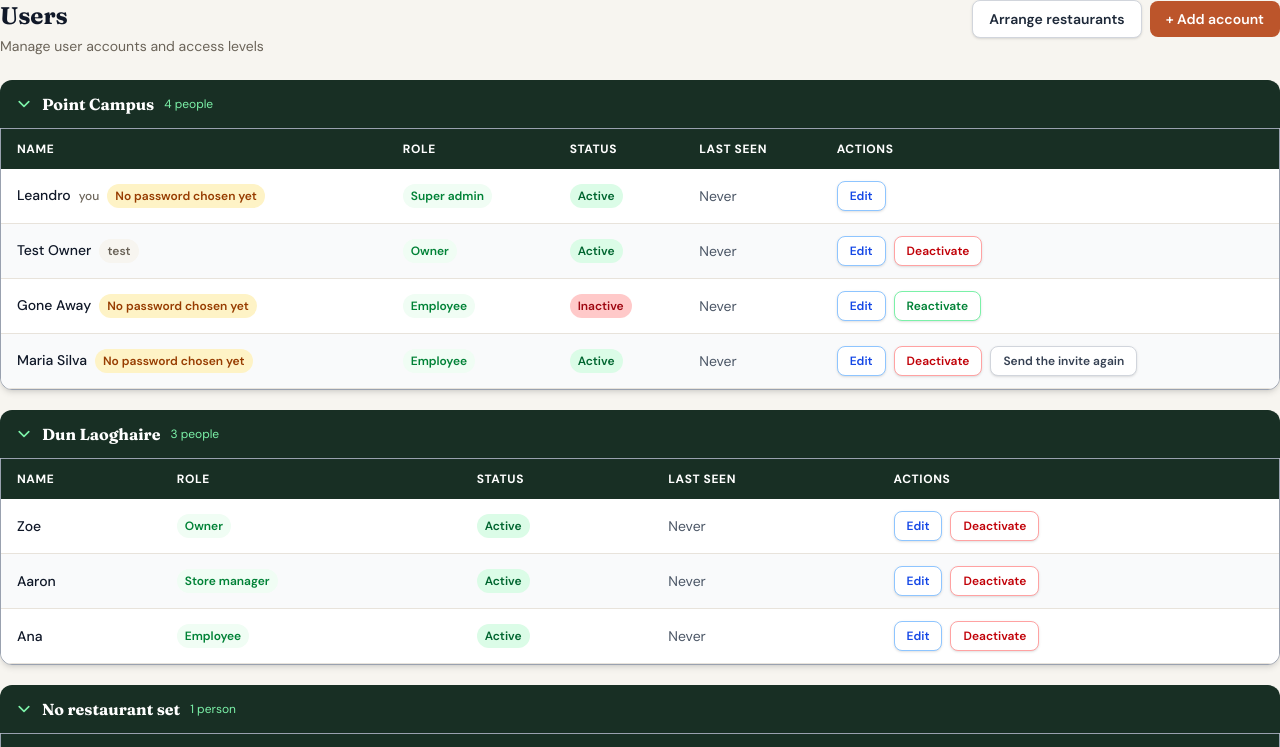
it: sending the invite again › goes through the function and says where it went
What coordinates should you click on to do the following:
click the button "Send the invite again"
I would click on:
 (1064, 361)
Its box is [990,346,1137,376].
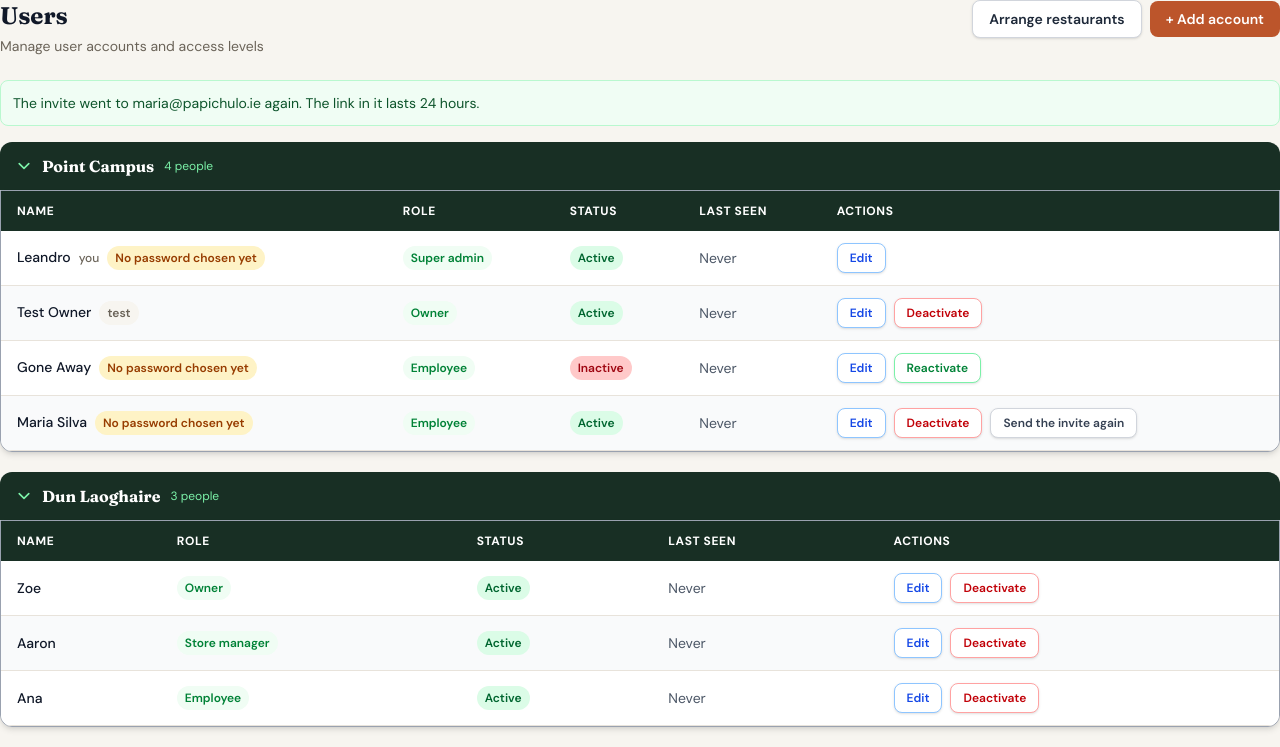
Expected: the text "The invite went to maria@papichulo.ie again. The link in it lasts 24 hours." is shown, [0,80,1279,126]
